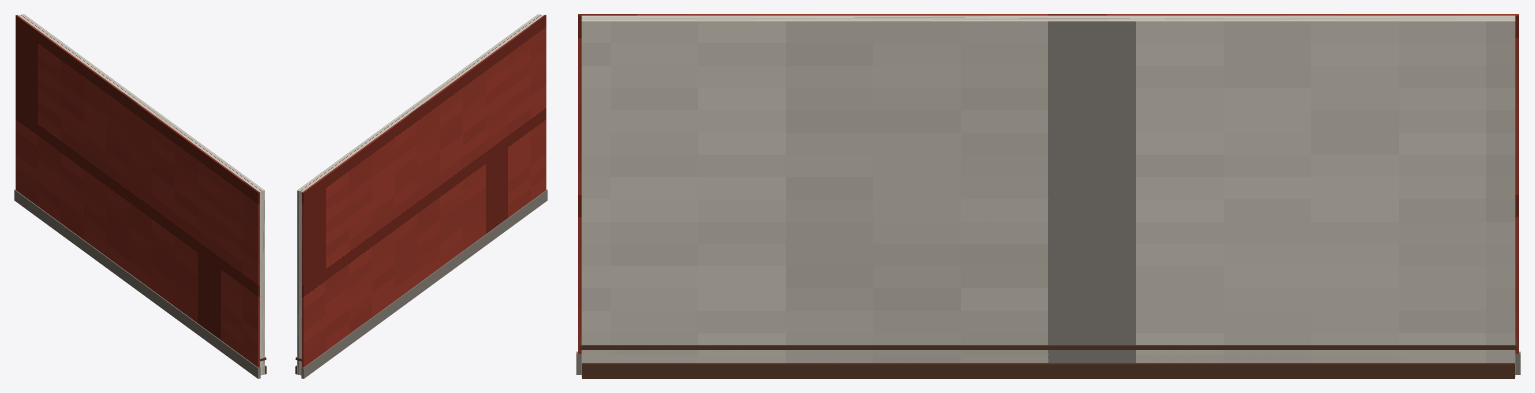
The model's file is fire_left.glb.
The picture shows the model from 3 angles, left to right: view 1: azimuth 30°, elevation 25°; view 2: azimuth 150°, elevation 25°; view 3: azimuth 270°, elevation 25°; orthographic projection. The views are drawn at different scales.
Parts seen in each view (by area): view 1: Box3, Box4, Box1; view 2: Box3, Box4, Box1; view 3: Box1, Box2, Box6, Box3, Box5.
Part boxes in pixels (x1,y1,x2,y2): Box3: (15, 15, 259, 367); Box4: (14, 189, 260, 378); Box1: (18, 14, 264, 375); Box3: (302, 15, 546, 367); Box4: (301, 189, 547, 378); Box1: (297, 14, 543, 375); Box1: (581, 15, 1515, 376); Box2: (582, 363, 1514, 378); Box6: (580, 339, 1516, 349); Box3: (578, 14, 1518, 353); Box5: (581, 350, 1514, 362).
Size of the model in its own units: 0.25 by 4.44 by 10.57.
4 materials, 2 textured.
